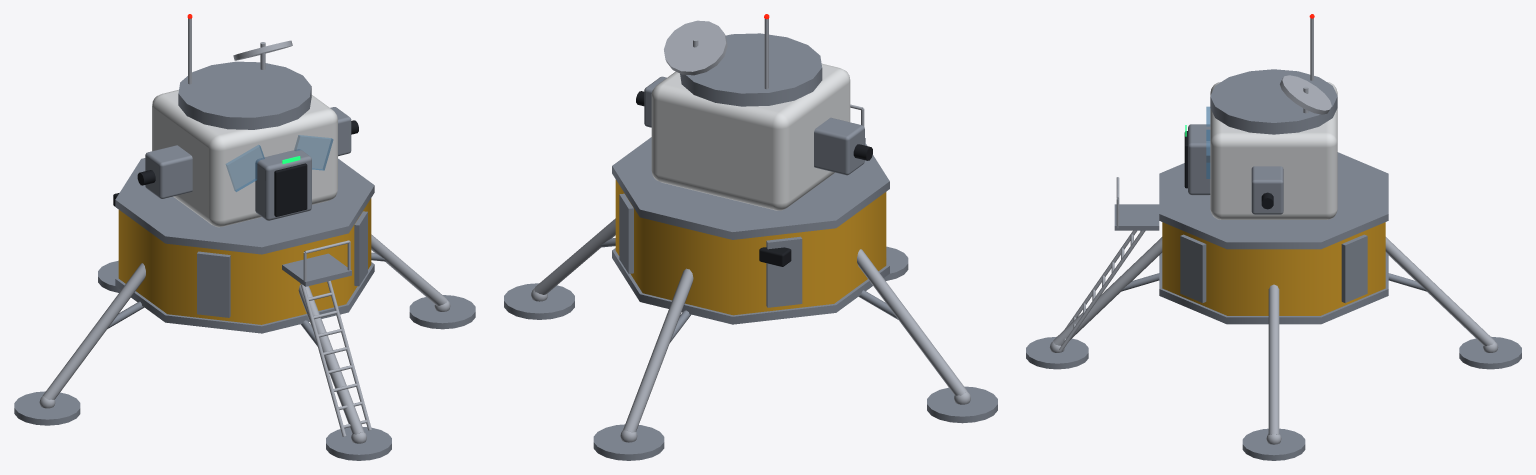
File: lander.glb
3 renders of one model, left to right at view 1: azimuth 30°, elevation 25°; view 2: azimuth 150°, elevation 25°; view 3: azimuth 270°, elevation 25°, orthographic. The views are drawn at different scales.
Visible parts, largest first — view 1: Lander_Body; view 2: Lander_Body; view 3: Lander_Body.
Boxes of the visible parts, x1,y1,x2,y2 form: Lander_Body: (14, 14, 475, 460); Lander_Body: (504, 14, 997, 460); Lander_Body: (1026, 14, 1521, 460).
Bounding box in the file's own units: 7.8 × 5.64 × 7.78.
